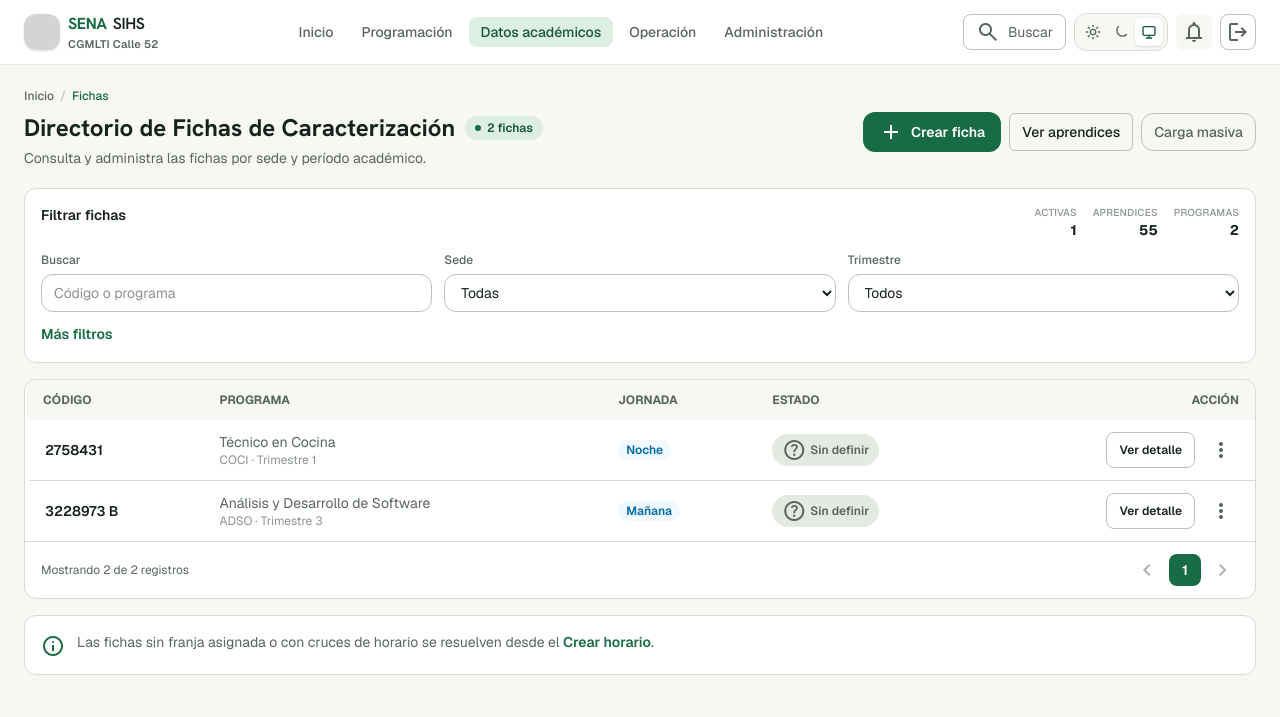
Test: Fichas › muestra el grid semanal con los horarios reales de la ficha
Click the text "3228973 B".
click(115, 511)  # box [27,480,204,541]
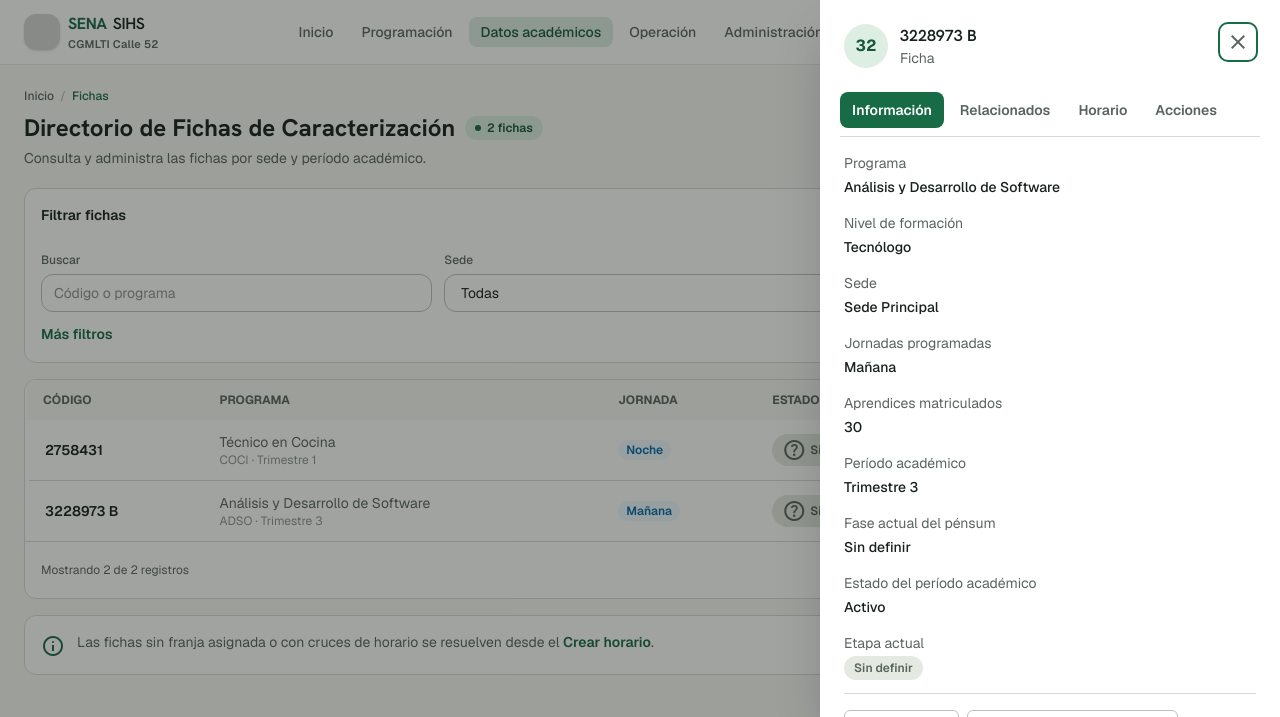
Click the tab "Horario".
click(1103, 110)  # box [1066,92,1139,128]
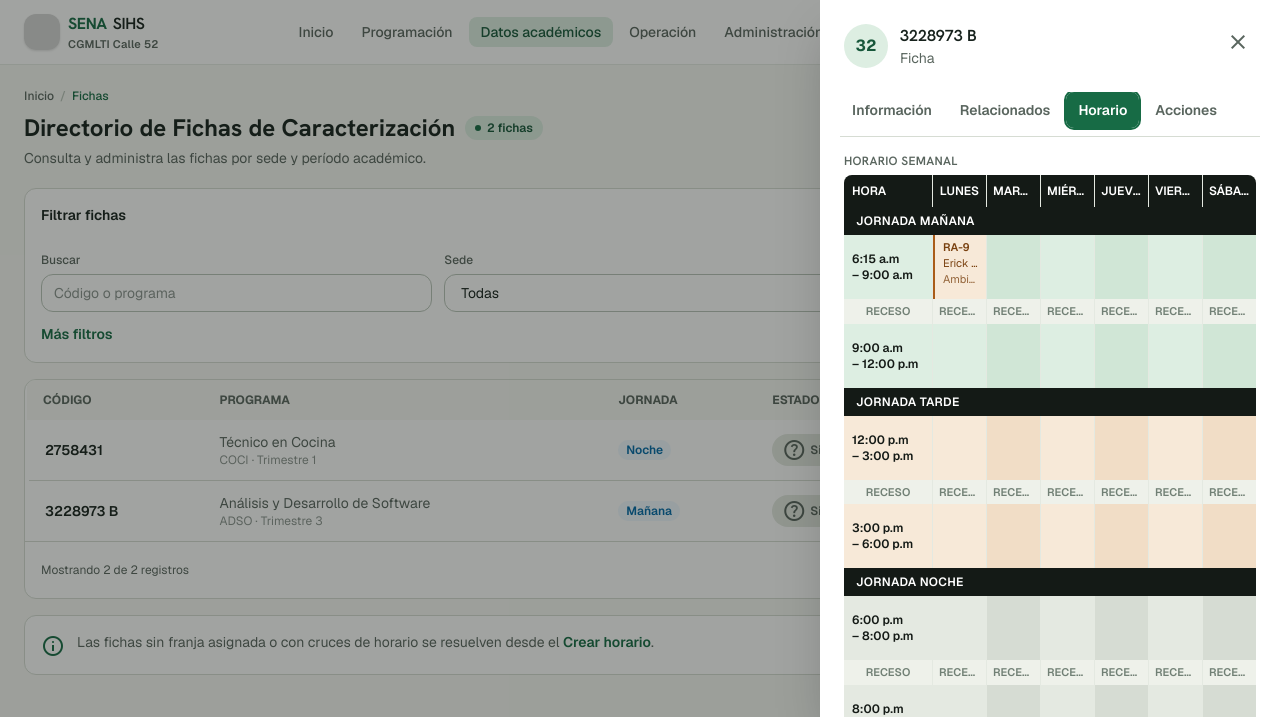
Result: the heading "Horario semanal" is shown at [844,153,958,169]
Result: the text "RA-9" is shown at [943,240,970,254]
Result: the text "Erick Granados" is shown at [943,257,978,271]
